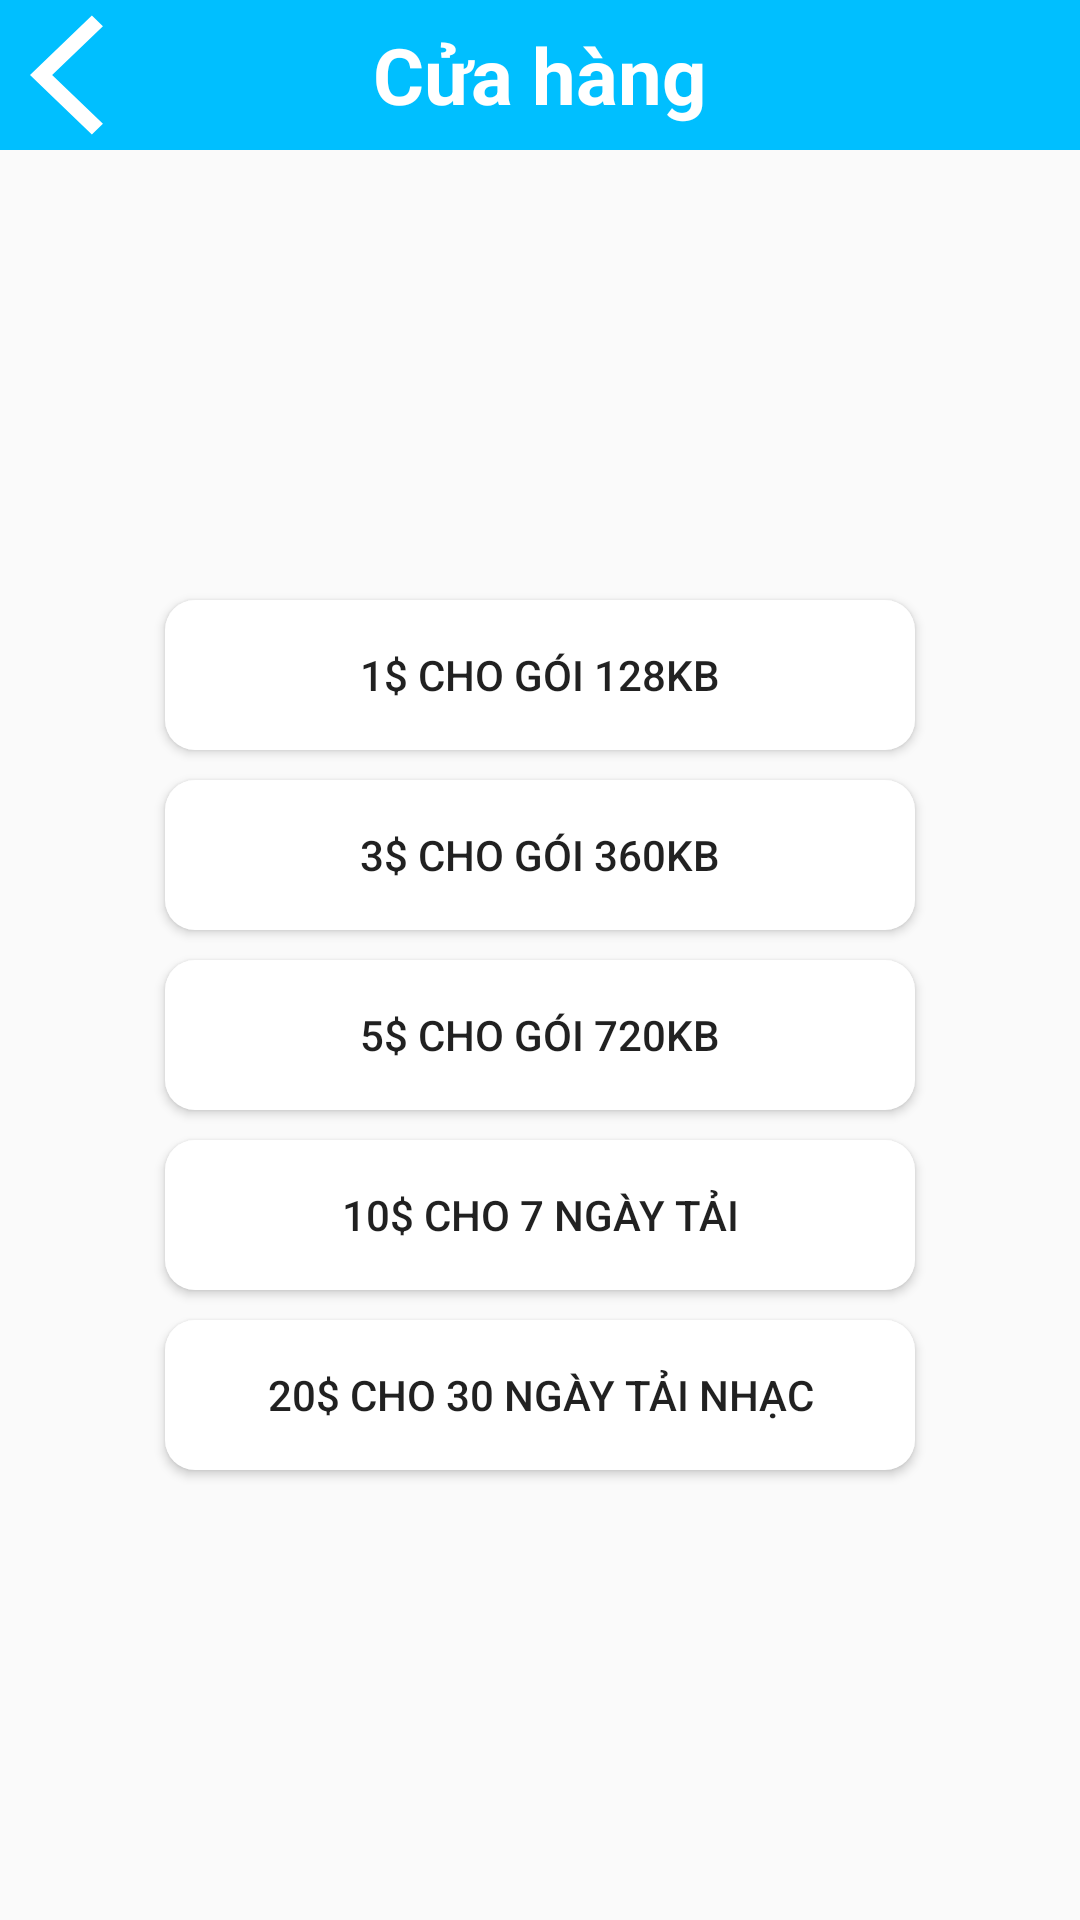

Where icons sit on this 1080px x 1920px app screen, as box=[x1, y1, x2, y2]:
arrow back: box=[30, 15, 103, 135]
